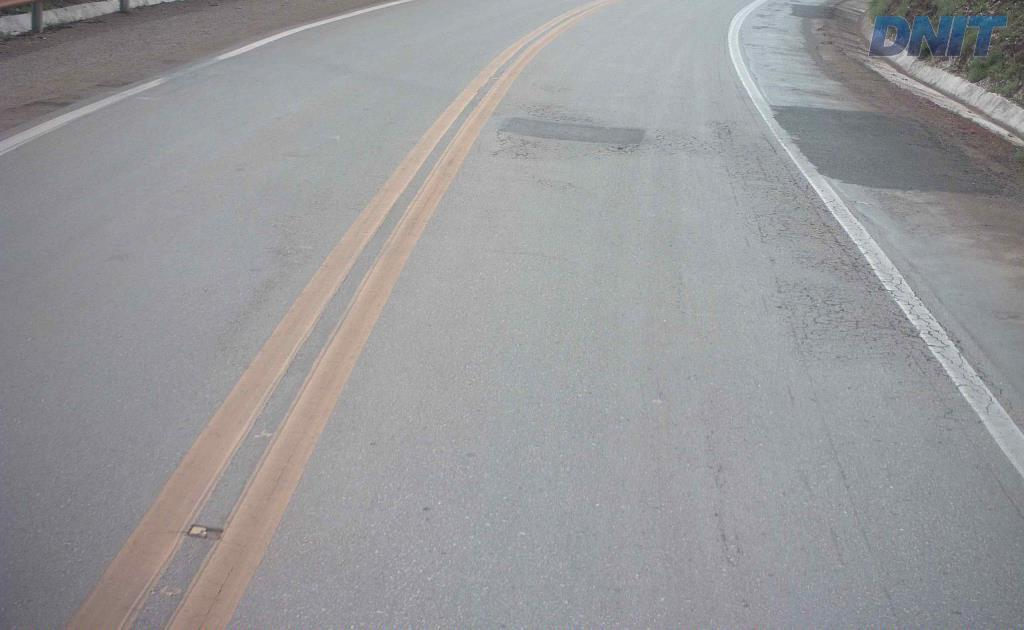crack: (799, 214, 882, 305), (822, 315, 896, 344), (735, 150, 777, 197), (872, 309, 924, 343), (821, 286, 856, 317)
